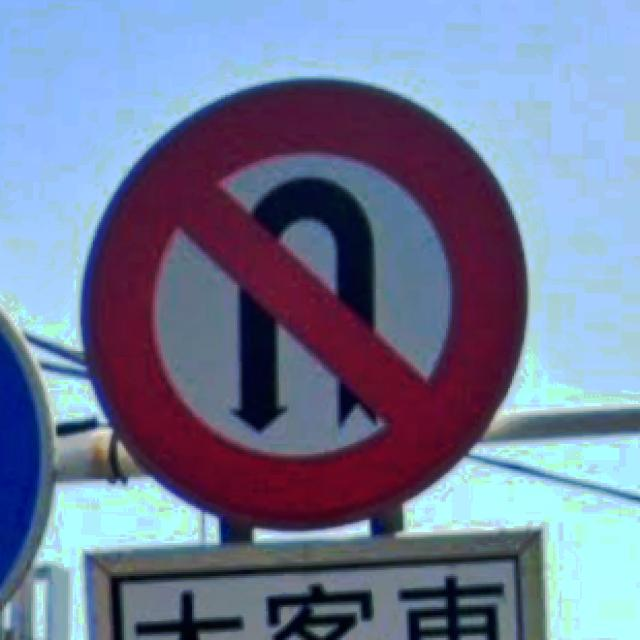nouturn: (91, 83, 529, 518)
